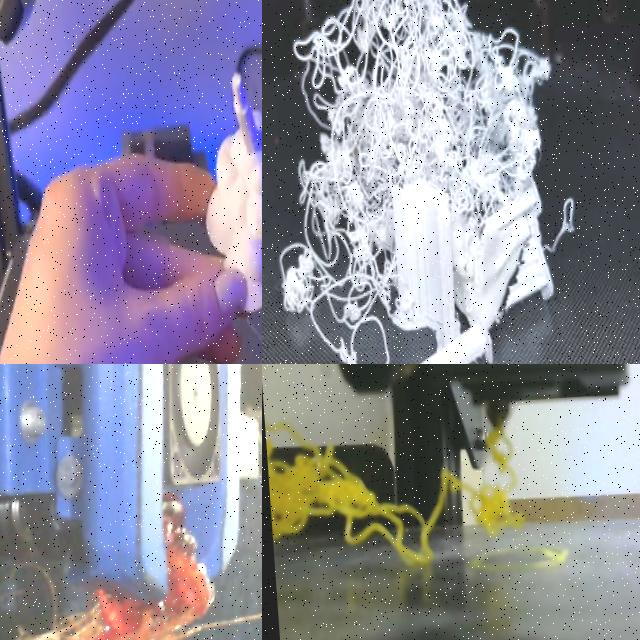spaghetti: (262, 0, 595, 364), (265, 422, 523, 564), (15, 494, 242, 640), (15, 493, 214, 640)
